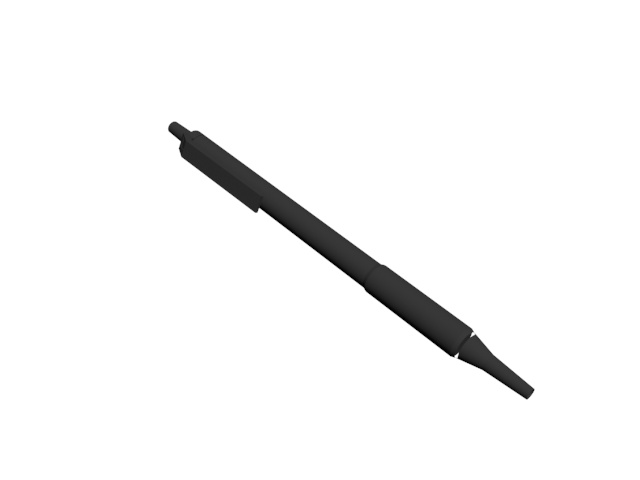pen: (161, 121, 536, 400)
